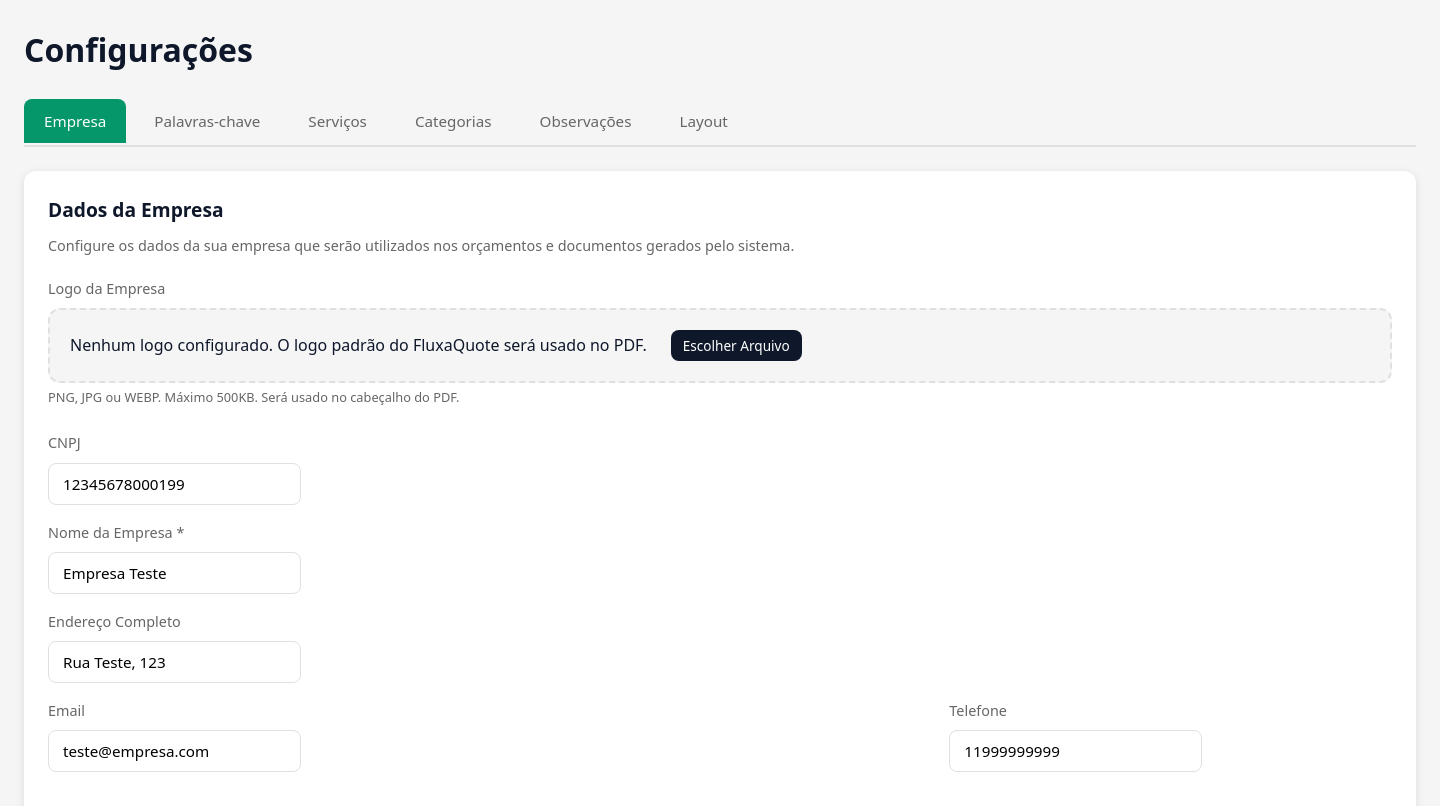
Test: Configuracoes › Aba de Palavras-chave › deve abrir modal ao clicar em "+ Nova Palavra-chave"
The image size is (1440, 806).
Click the button "Palavras-chave" at (207, 121), box top-left (134, 99), bottom-right (280, 143)
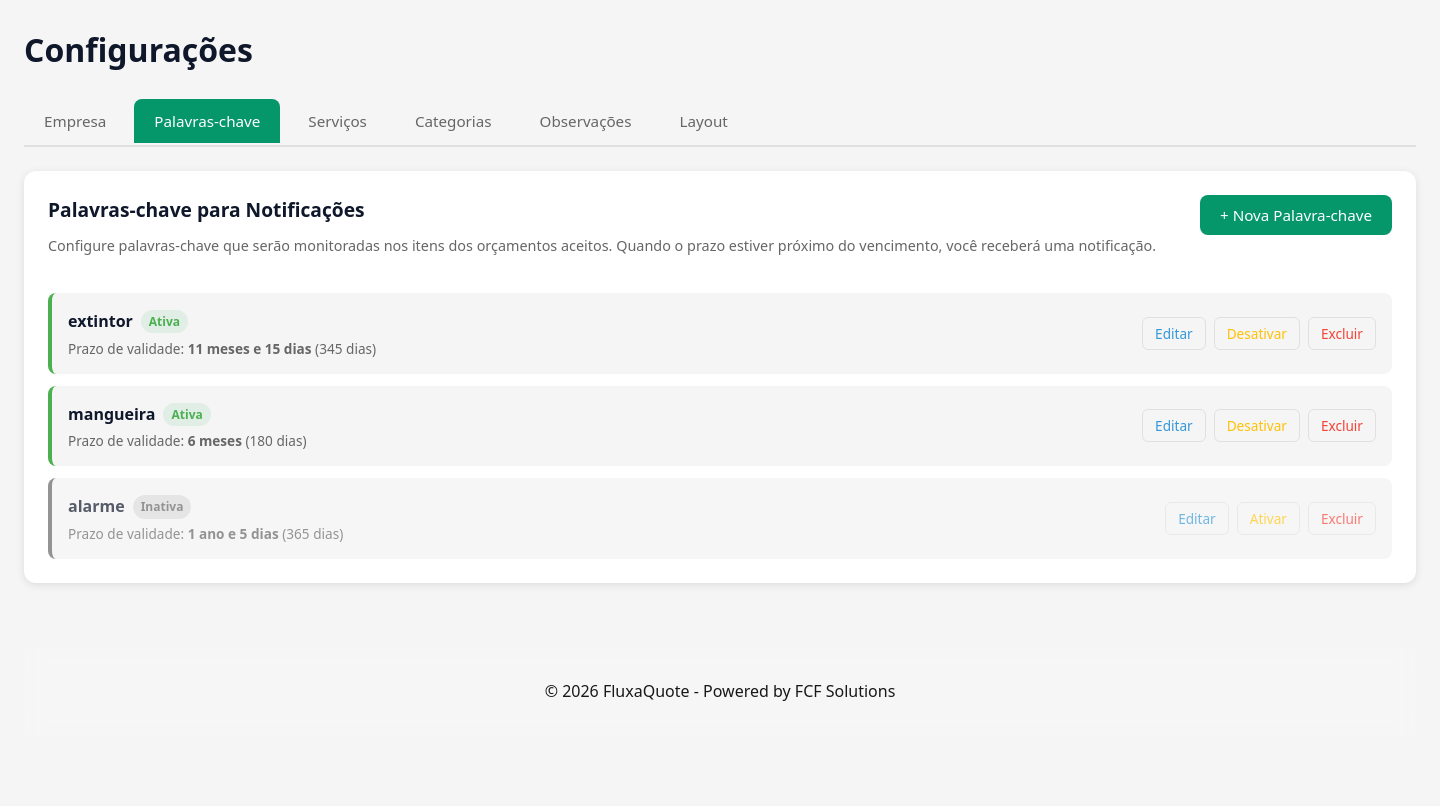
Expected: the button "+ Nova Palavra-chave" is shown
Click the button "+ Nova Palavra-chave" at (1296, 215), box top-left (1200, 195), bottom-right (1392, 235)
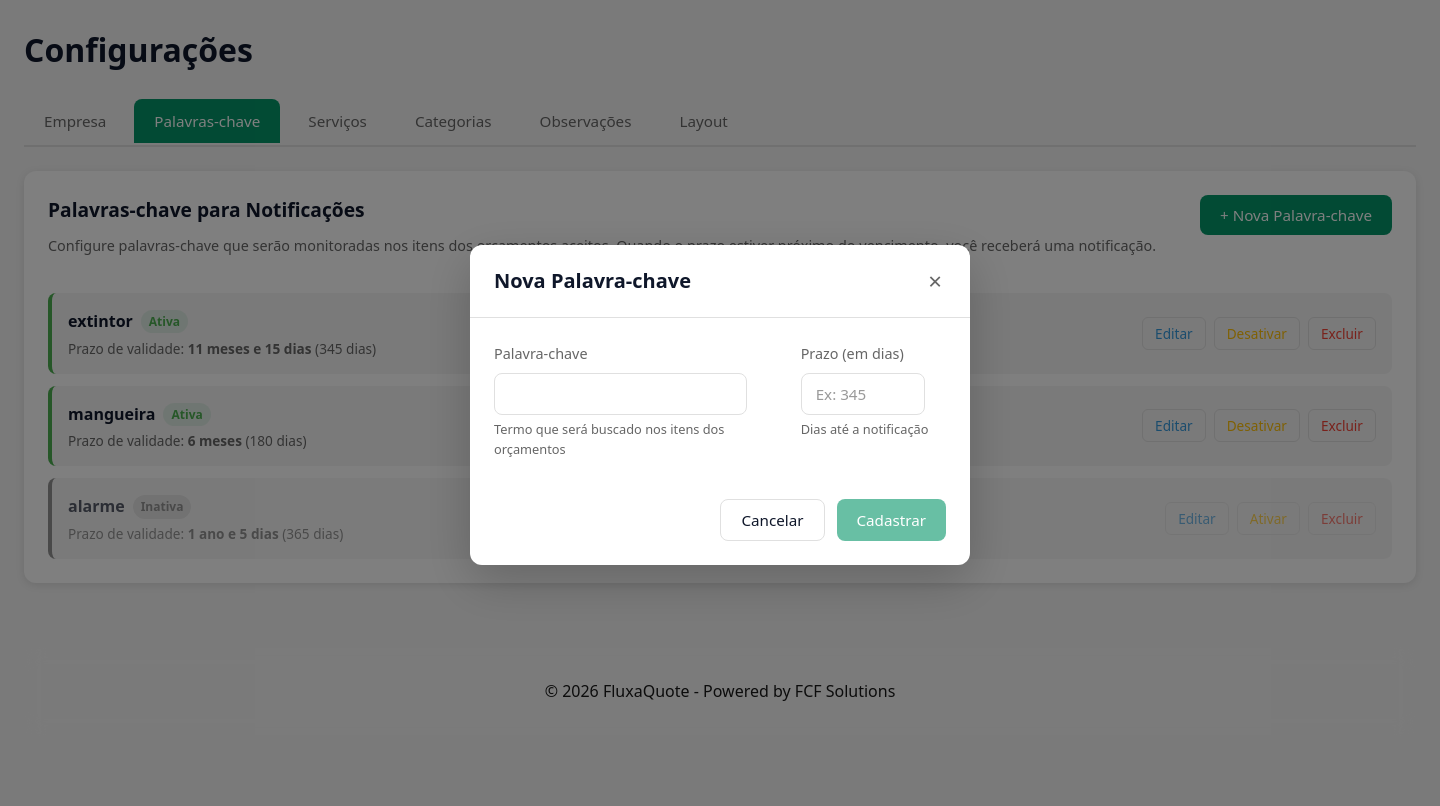
Expected: the heading "Nova Palavra-chave" is shown, top-left (494, 264), bottom-right (691, 296)
